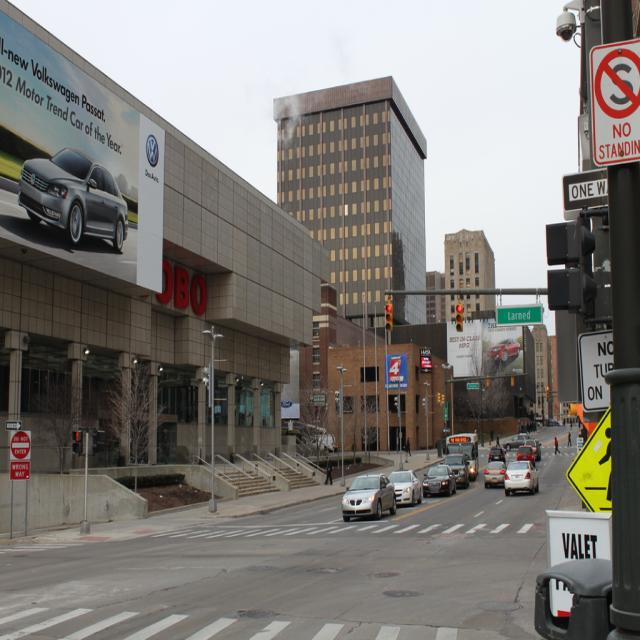car: (340, 471, 398, 519)
